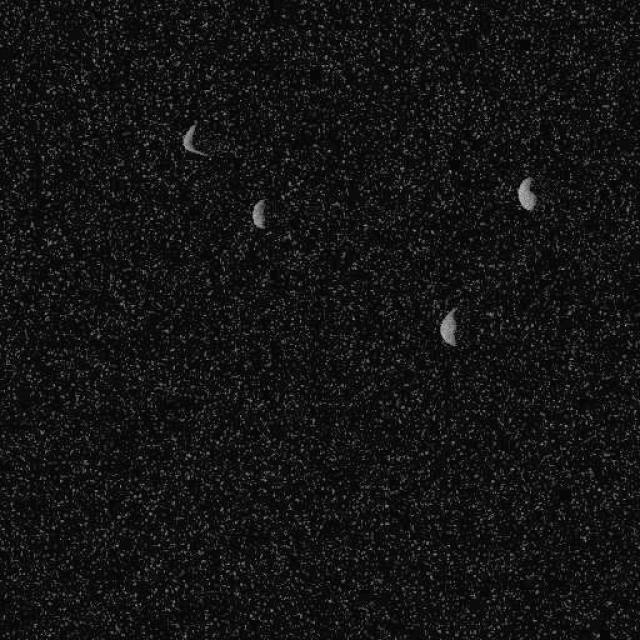D2: (180, 120, 208, 158), (438, 305, 458, 346), (516, 175, 536, 211), (252, 198, 268, 228)
